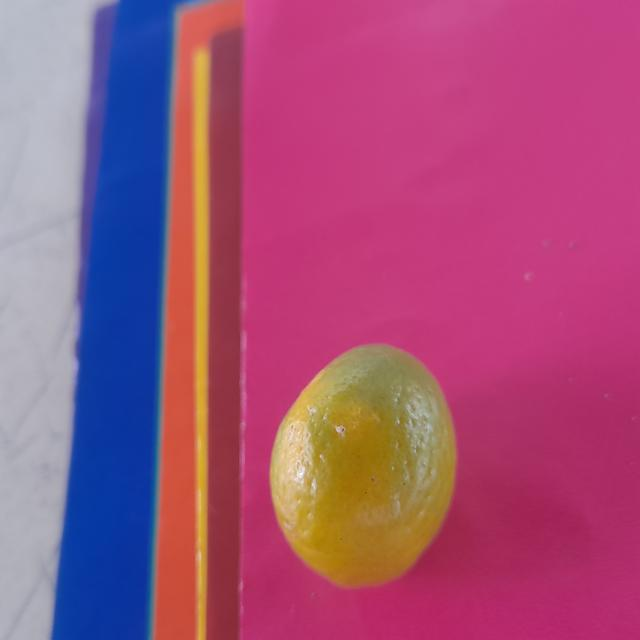greening: (270, 337, 462, 588)
